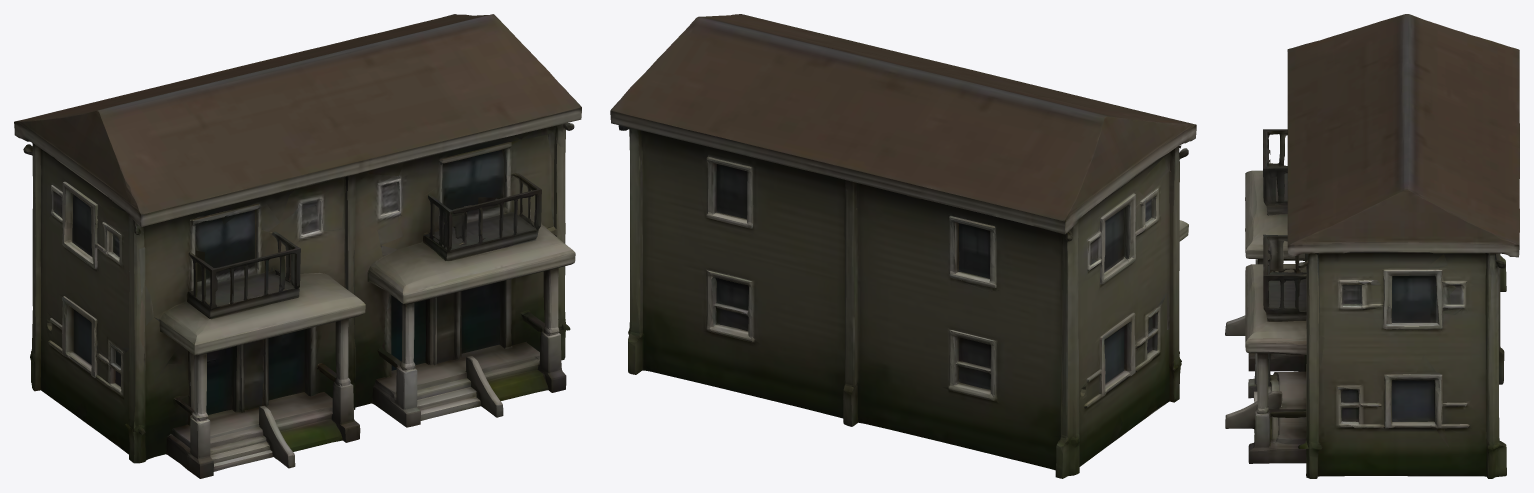
File: house 1.glb
3 views of the same model, side by side, from view 1: azimuth 30°, elevation 25°; view 2: azimuth 150°, elevation 25°; view 3: azimuth 270°, elevation 25° (orthographic). The views are drawn at different scales.
Parts seen in each view (by area): view 1: world; view 2: world; view 3: world.
Boxes of the visible parts, <box> form: world: <box>14,14,581,478</box>; world: <box>610,14,1196,478</box>; world: <box>1225,14,1519,478</box>.
Bounding box in the file's own units: 0.9978 × 0.6675 × 0.6337.
Materials: 1 (1 with a texture image).
